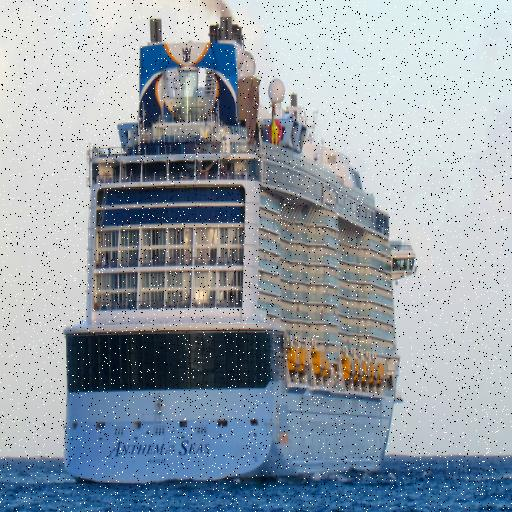cruises: (61, 13, 422, 495)
